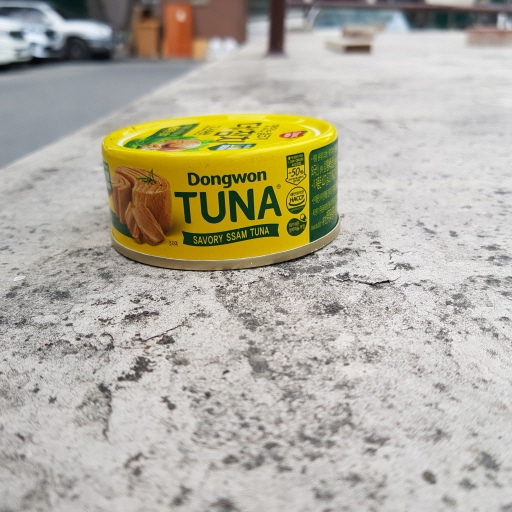Metal_1: (100, 114, 344, 272)
